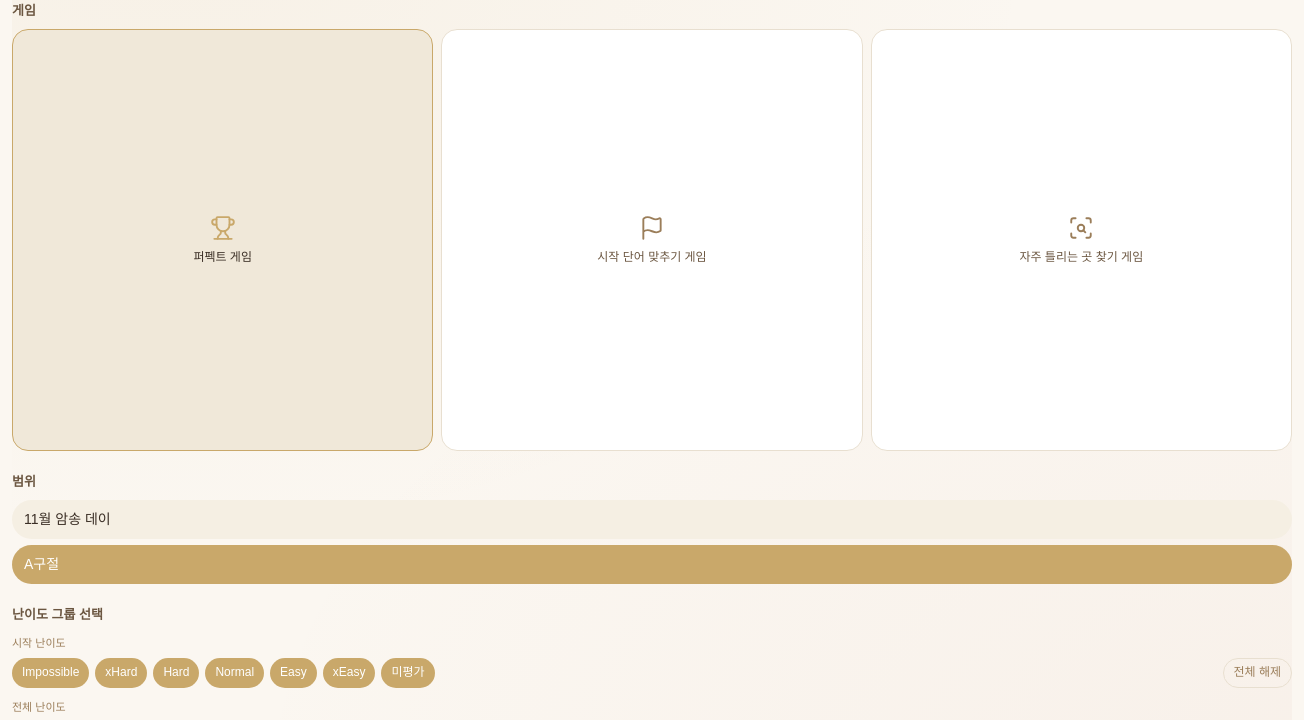
it: QuizScopePicker › moves the count when a difficulty chip is turned off
Click the button "xHard" at point(121, 673), box [95, 658, 147, 688]
(page scrolled)
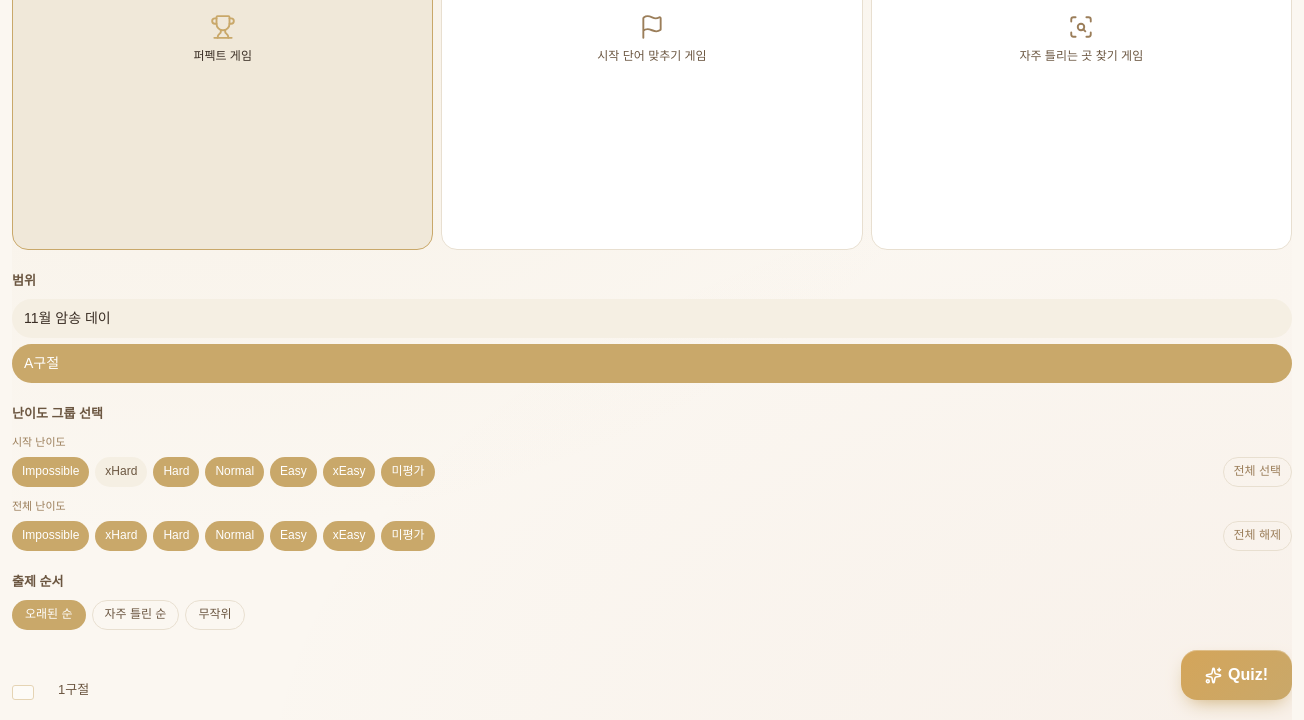
expect the text "1구절" is shown: met, box [58, 679, 89, 700]
